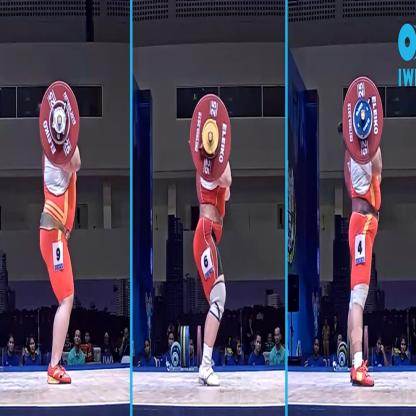Barbell: (185, 88, 233, 184), (36, 78, 82, 170), (340, 73, 385, 166)
